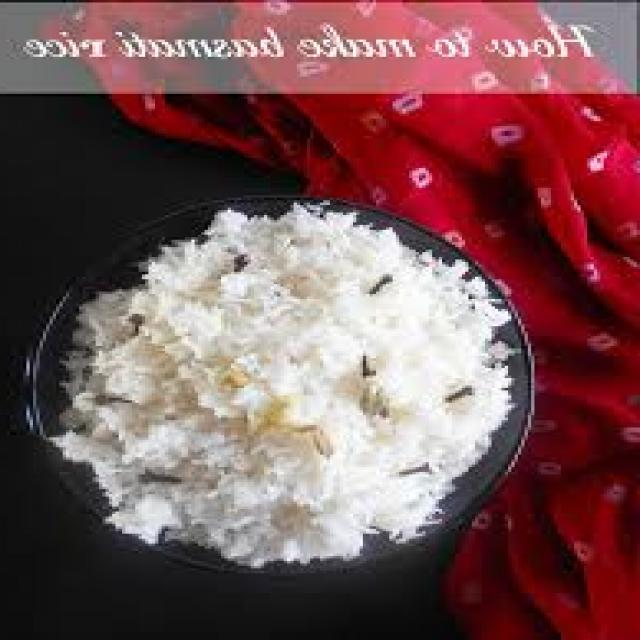White Rice: (0, 235, 506, 580)
